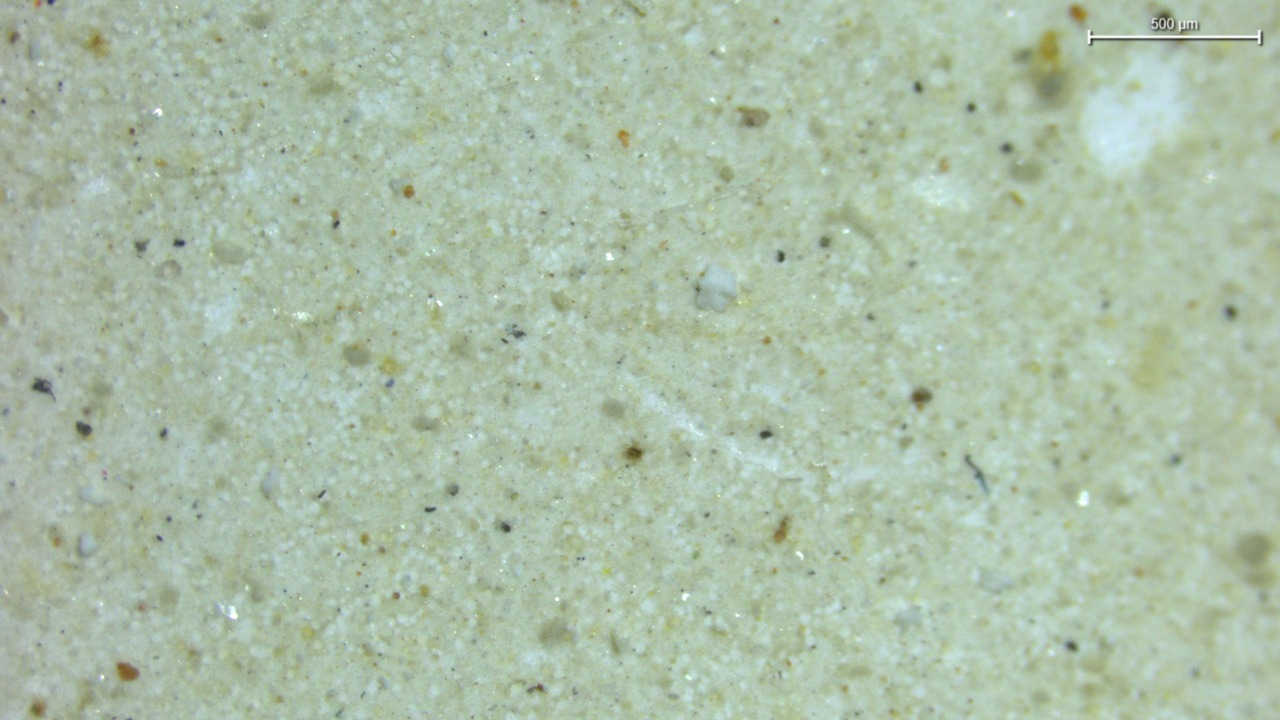microplastic_fragment: (696, 264, 737, 311)
